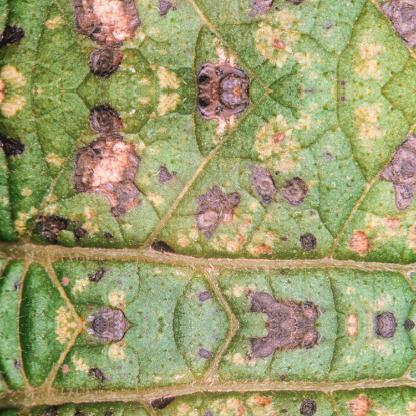Early-Blight: (186, 152, 330, 256), (60, 96, 180, 220), (60, 0, 180, 84), (42, 272, 138, 324), (42, 324, 138, 376), (234, 279, 328, 323), (234, 325, 328, 369), (185, 0, 330, 27), (185, 392, 330, 416), (377, 126, 415, 214), (191, 91, 265, 129), (191, 51, 265, 89), (358, 282, 416, 324), (358, 324, 416, 366), (377, 0, 415, 53)
